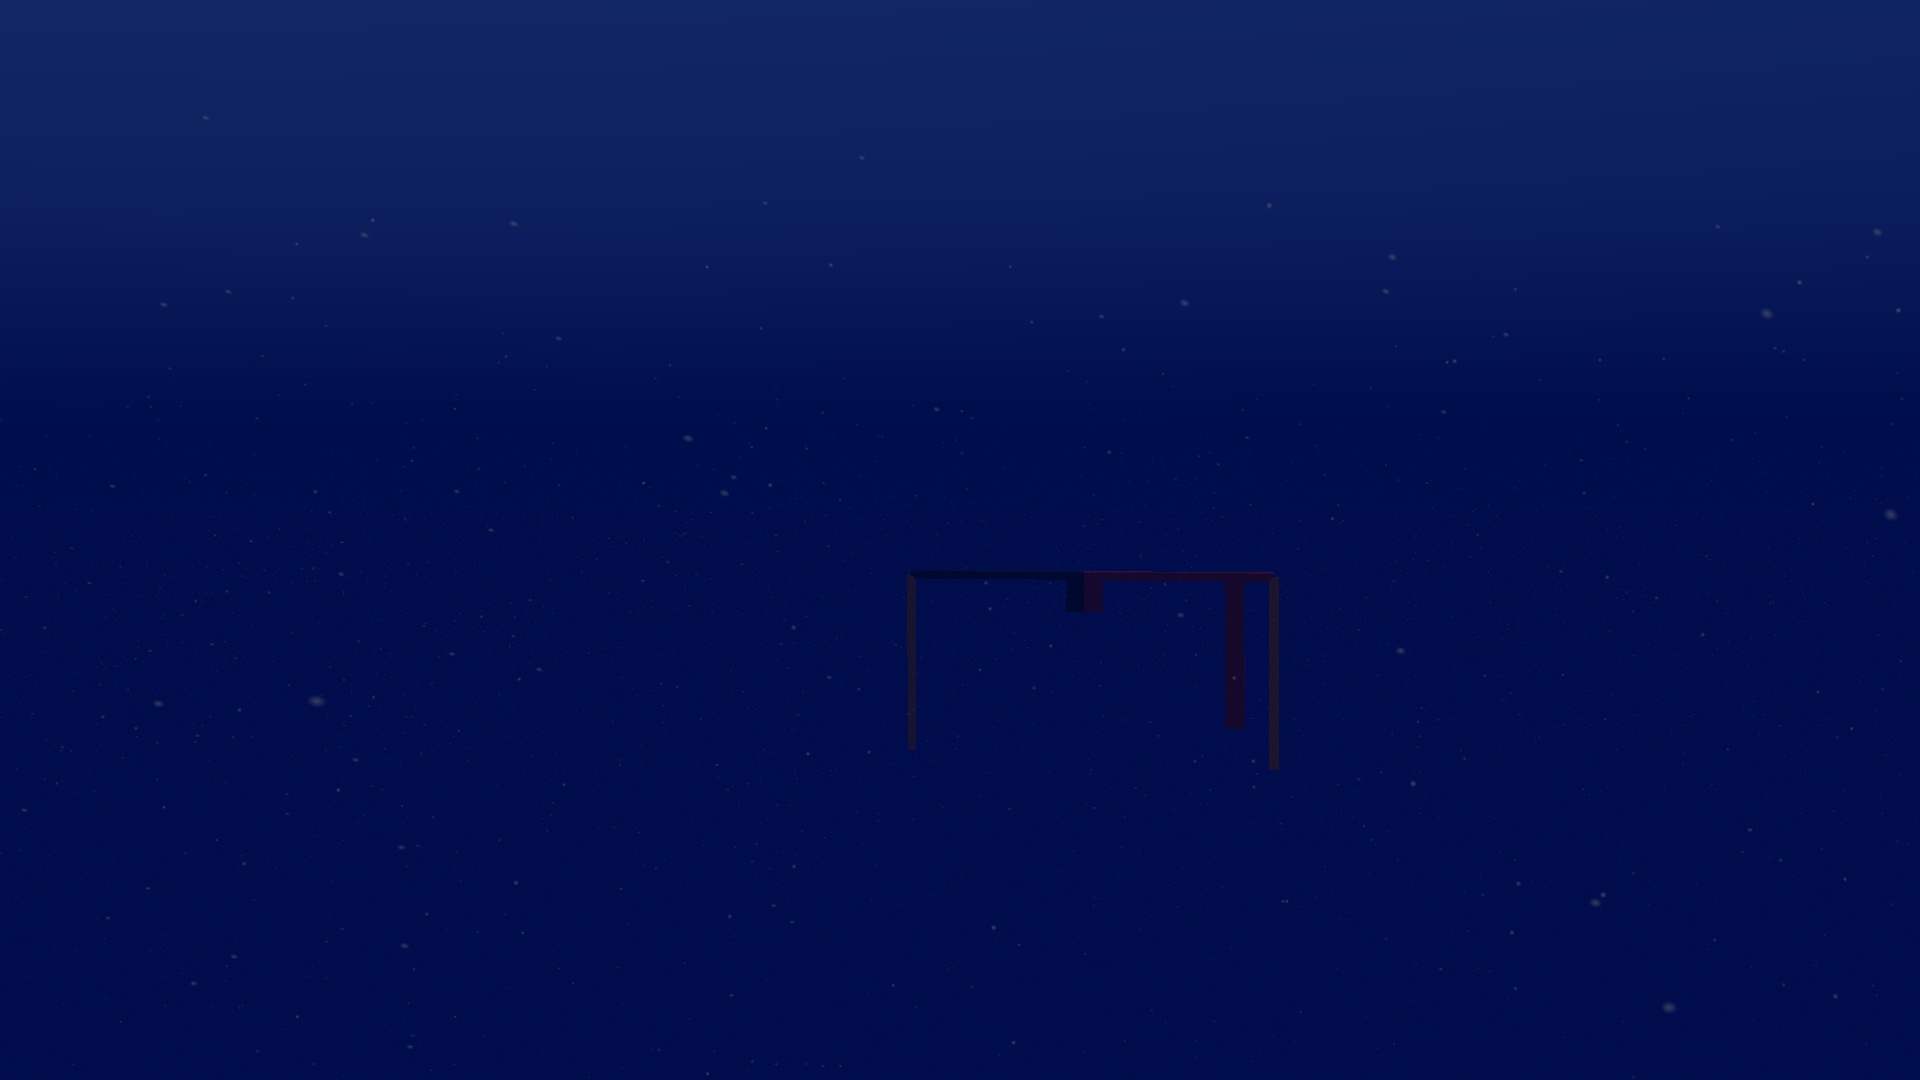Gate: (899, 564, 1288, 779)
